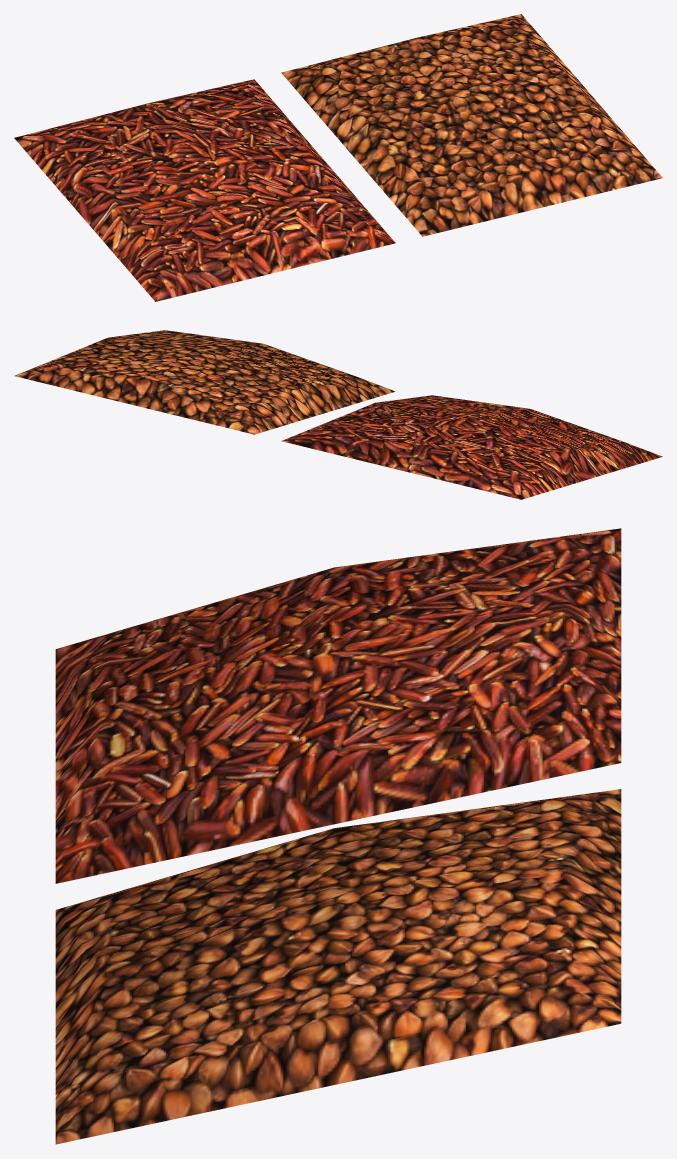
File: grains-04.fbx
The picture shows the model from 3 angles, top to bottom: view 1: azimuth 30°, elevation 25°; view 2: azimuth 150°, elevation 25°; view 3: azimuth 270°, elevation 25°; orthographic projection. The views are drawn at different scales.
Parts seen in each view (by area): view 1: Cube.009_Cube.003_Cube.009_Cube.002; view 2: Cube.009_Cube.003_Cube.009_Cube.002; view 3: Cube.009_Cube.003_Cube.009_Cube.002.
Part boxes in pixels (x1,y1,x2,y2): Cube.009_Cube.003_Cube.009_Cube.002: [14, 14, 662, 301]; Cube.009_Cube.003_Cube.009_Cube.002: [14, 330, 662, 499]; Cube.009_Cube.003_Cube.009_Cube.002: [55, 528, 621, 1144].
Size of the model in its own units: 1.51 by 0.2166 by 0.729.
